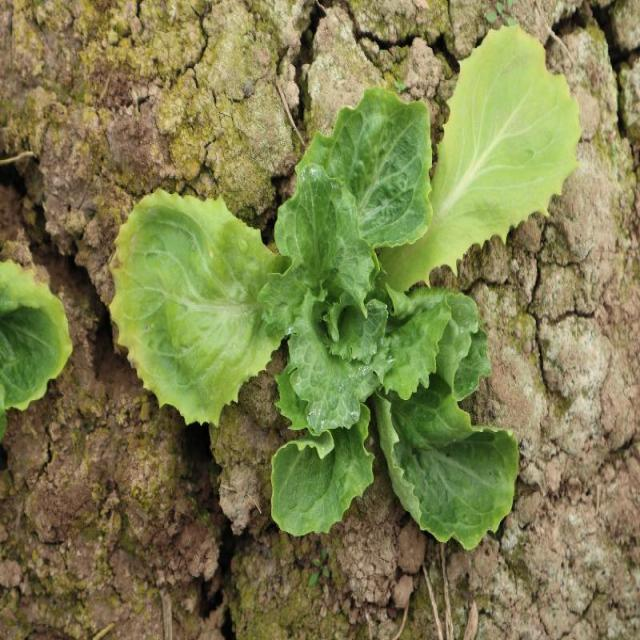crop: (106, 23, 587, 551)
